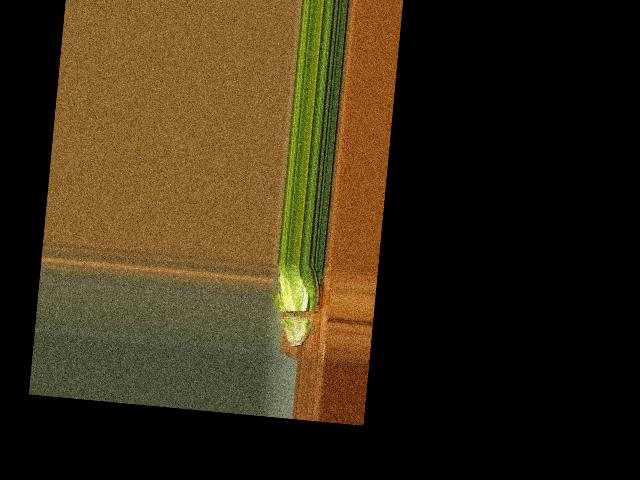lettuce: (268, 263, 327, 347)
